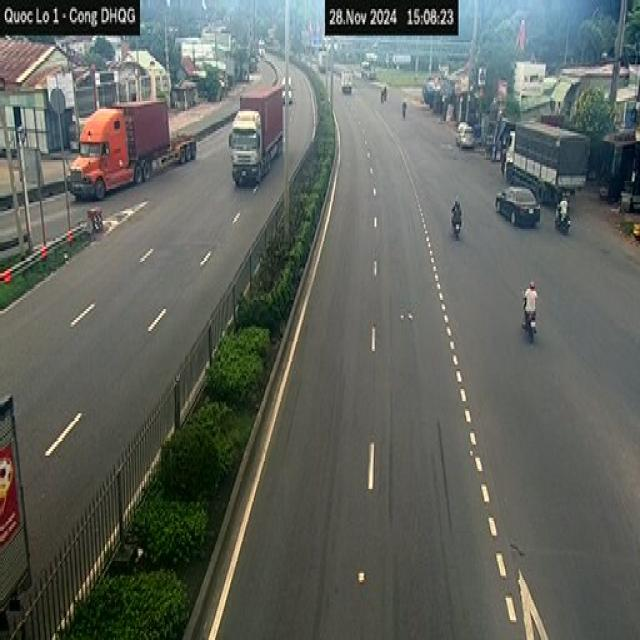car: (496, 181, 543, 234)
container-truck: (65, 94, 197, 209), (228, 80, 287, 188)
truck: (0, 381, 38, 640), (502, 111, 591, 205)
